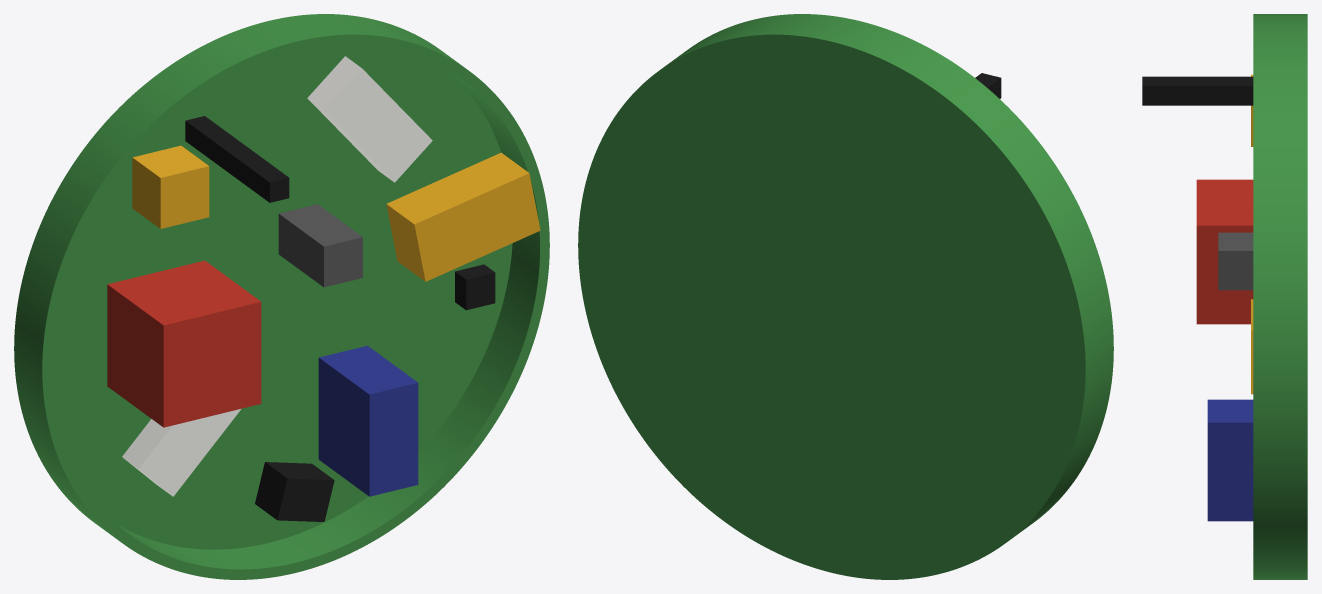
The model's file is obstacle_world.obj.
3 views of the same model, side by side, from view 1: azimuth 30°, elevation 25°; view 2: azimuth 150°, elevation 25°; view 3: azimuth 270°, elevation 25° (orthographic). The views are drawn at different scales.
Parts seen in each view (by area): view 1: world, Body12, Body19, Body13, Body14, Body16, Body15, Body18, Body20, Body17, Body21; view 2: world; view 3: world, Body12, Body19, Body17, Body15, Body13.
Part boxes in pixels (box(x1,y1,x2,y2)): world: box(14, 14, 549, 579); Body12: box(107, 260, 261, 427); Body19: box(318, 345, 418, 496); Body13: box(386, 152, 540, 281); Body14: box(307, 56, 432, 182); Body16: box(132, 145, 209, 228); Body15: box(278, 204, 362, 287); Body18: box(122, 408, 241, 496); Body20: box(255, 462, 334, 521); Body17: box(185, 116, 289, 202); Body21: box(455, 264, 495, 310); world: box(578, 14, 1113, 579); world: box(1253, 14, 1307, 579); Body12: box(1196, 179, 1253, 324); Body19: box(1207, 399, 1253, 521); Body17: box(1142, 76, 1253, 105); Body15: box(1218, 232, 1253, 290); Body13: box(1251, 299, 1253, 394).
Size of the model in its own units: 2.6 by 2.6 by 0.76.
